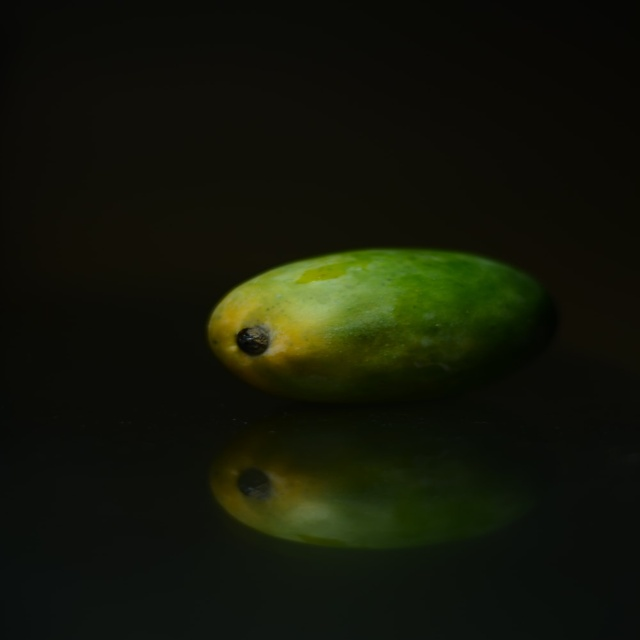mango: (205, 250, 552, 411), (205, 433, 555, 557)
